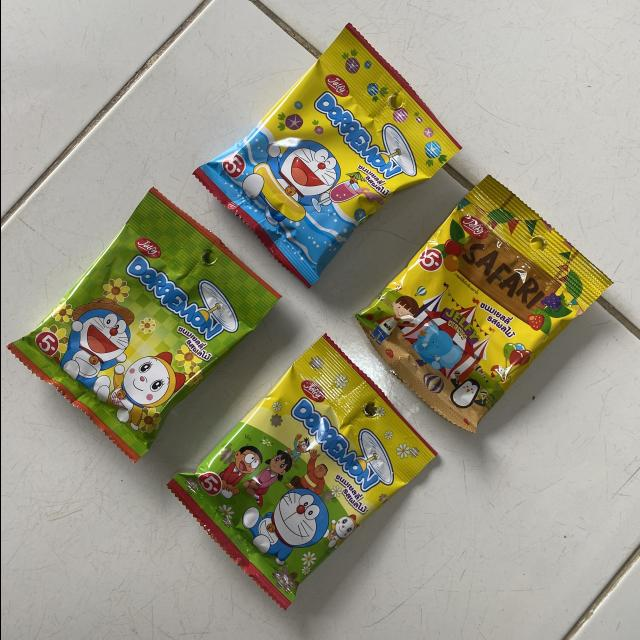plastik: (8, 188, 279, 461), (167, 336, 435, 609), (194, 24, 460, 286), (356, 177, 611, 432)
